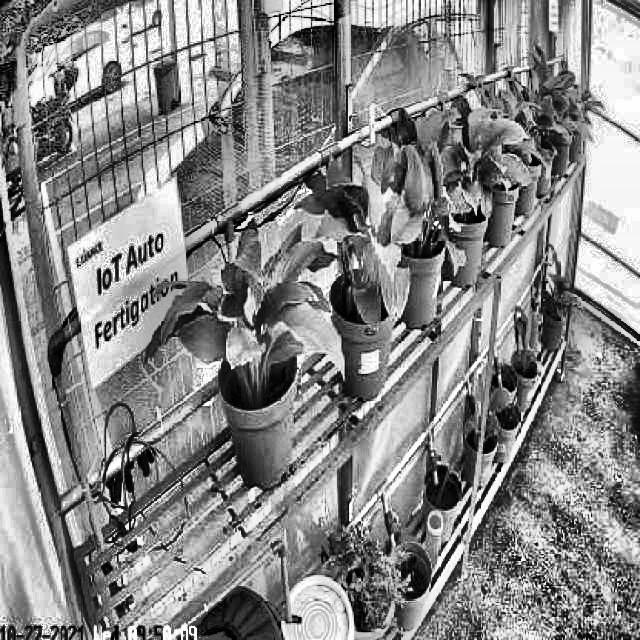plants: (144, 219, 346, 407), (412, 92, 536, 245), (296, 178, 410, 338), (366, 127, 464, 293)
